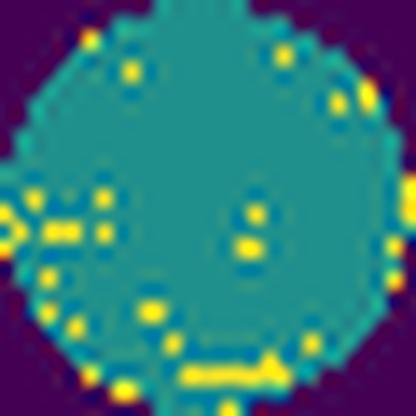Scratch: (174, 346, 295, 394)
